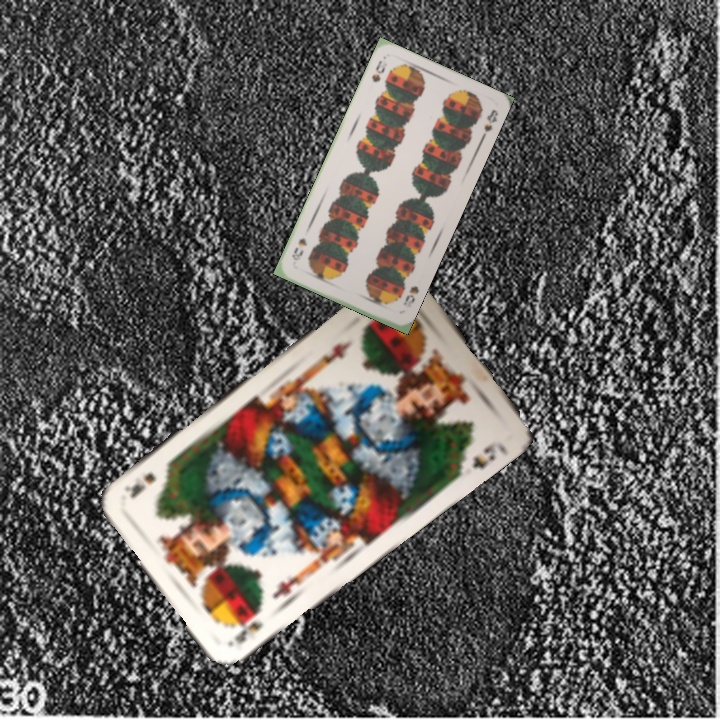S8: (399, 282, 421, 310), (368, 56, 388, 85)
SK: (230, 605, 267, 647)
